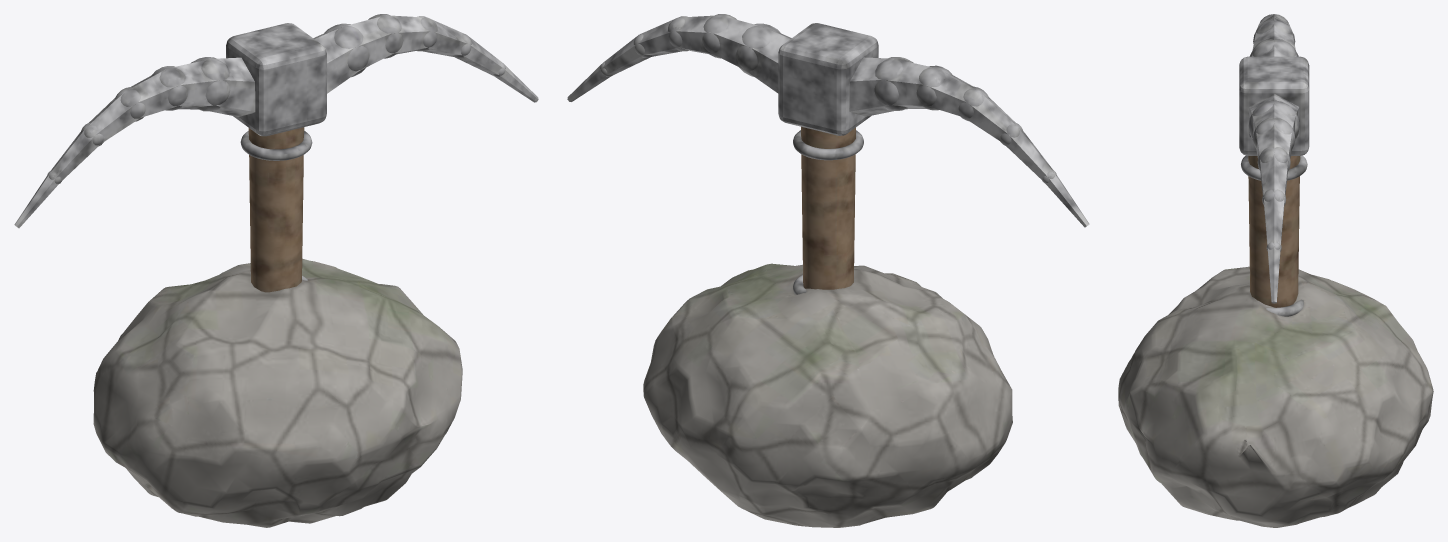
File: pick.glb
The picture shows the model from 3 angles, left to right: view 1: azimuth 30°, elevation 25°; view 2: azimuth 150°, elevation 25°; view 3: azimuth 270°, elevation 25°; orthographic projection. The views are drawn at different scales.
Visible parts, largest first — view 1: stone_grey, metal_iron, wood_old; view 2: stone_grey, metal_iron, wood_old; view 3: stone_grey, metal_iron, wood_old.
Part boxes in pixels (x1,y1,x2,y2): stone_grey: (93,258,462,527); metal_iron: (14,14,538,280); wood_old: (248,127,304,292); stone_grey: (643,263,1012,527); metal_iron: (567,14,1089,294); wood_old: (801,126,855,289); stone_grey: (1118,266,1433,527); metal_iron: (1239,14,1309,316); wood_old: (1248,156,1300,307).
Size of the model in its own units: 0.524 by 0.4448 by 0.2928.
3 materials, 3 textured.
